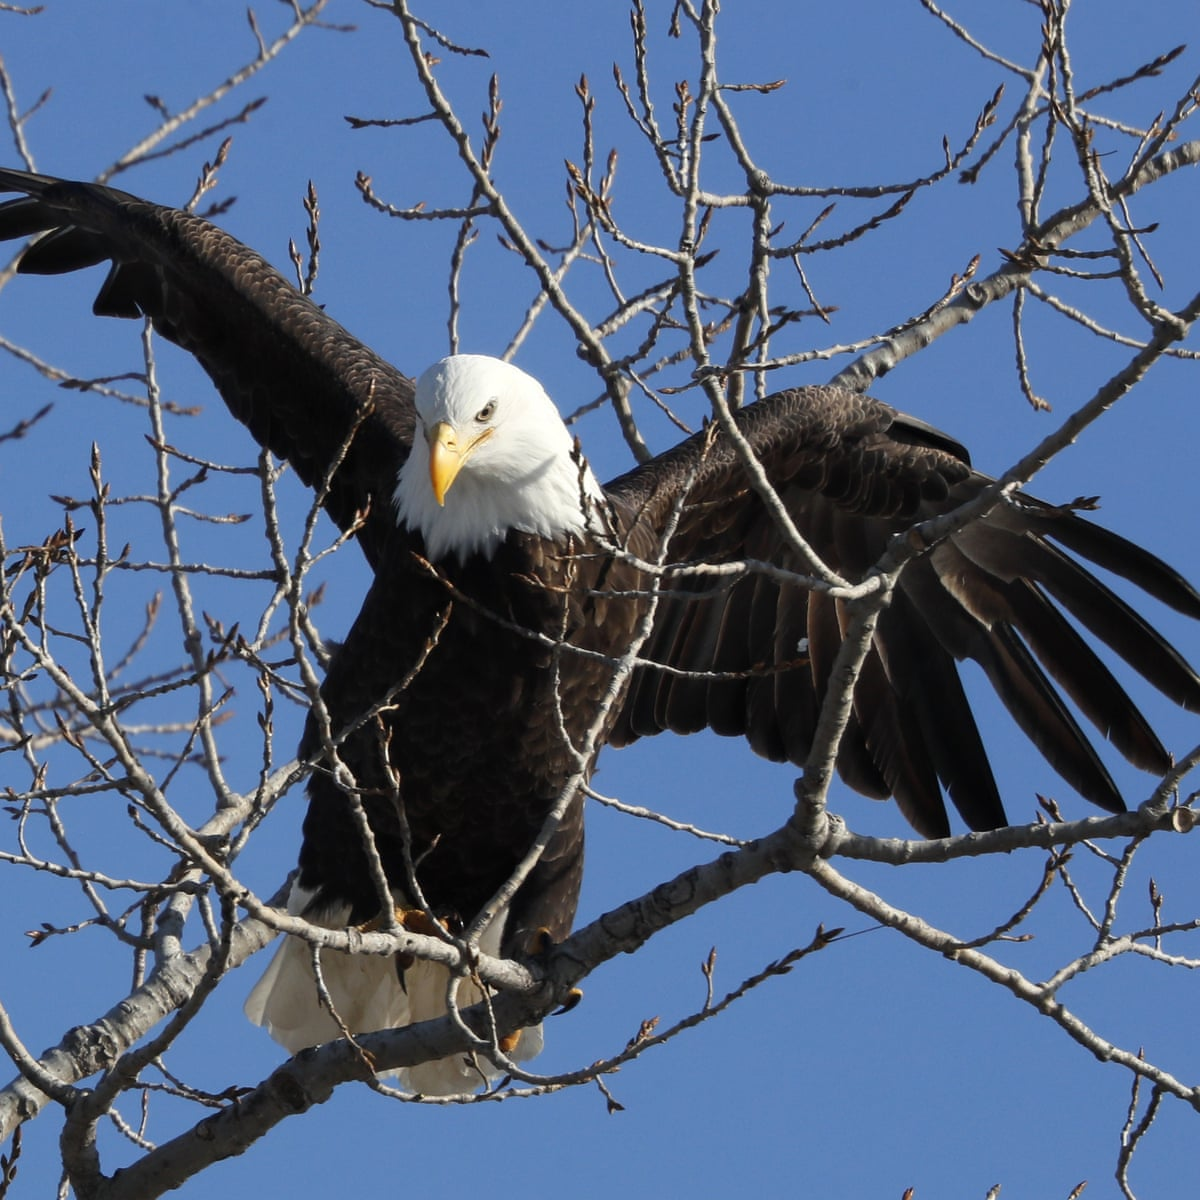bird: (10, 134, 1200, 1126)
